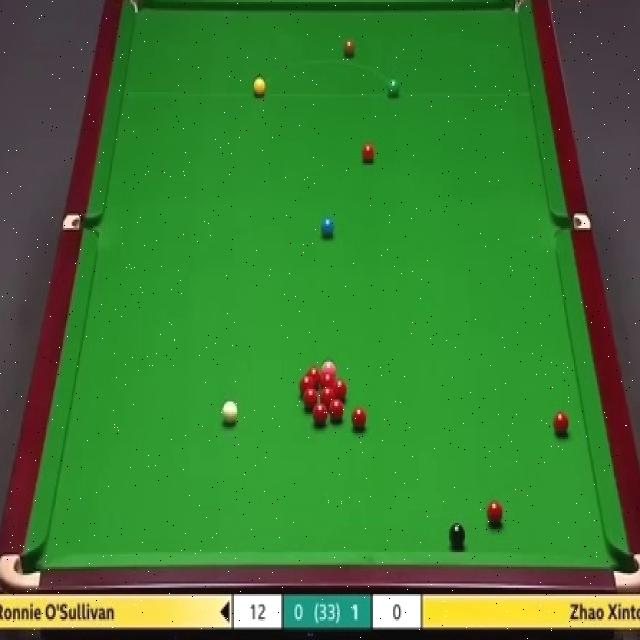black-ball: (448, 522, 466, 548)
blue-ball: (320, 217, 335, 240)
brown-ball: (344, 40, 356, 55)
green-ball: (386, 77, 401, 96)
pink-ball: (322, 361, 337, 372)
red-ball: (487, 500, 503, 524), (328, 398, 344, 421), (554, 412, 569, 434), (352, 408, 367, 430), (303, 388, 317, 411), (335, 379, 348, 402), (362, 142, 375, 165), (313, 404, 327, 424), (307, 366, 321, 384), (298, 376, 314, 390), (322, 371, 334, 386), (320, 389, 335, 400)
white-ball: (220, 400, 239, 428)
yellow-ball: (252, 76, 266, 98)
